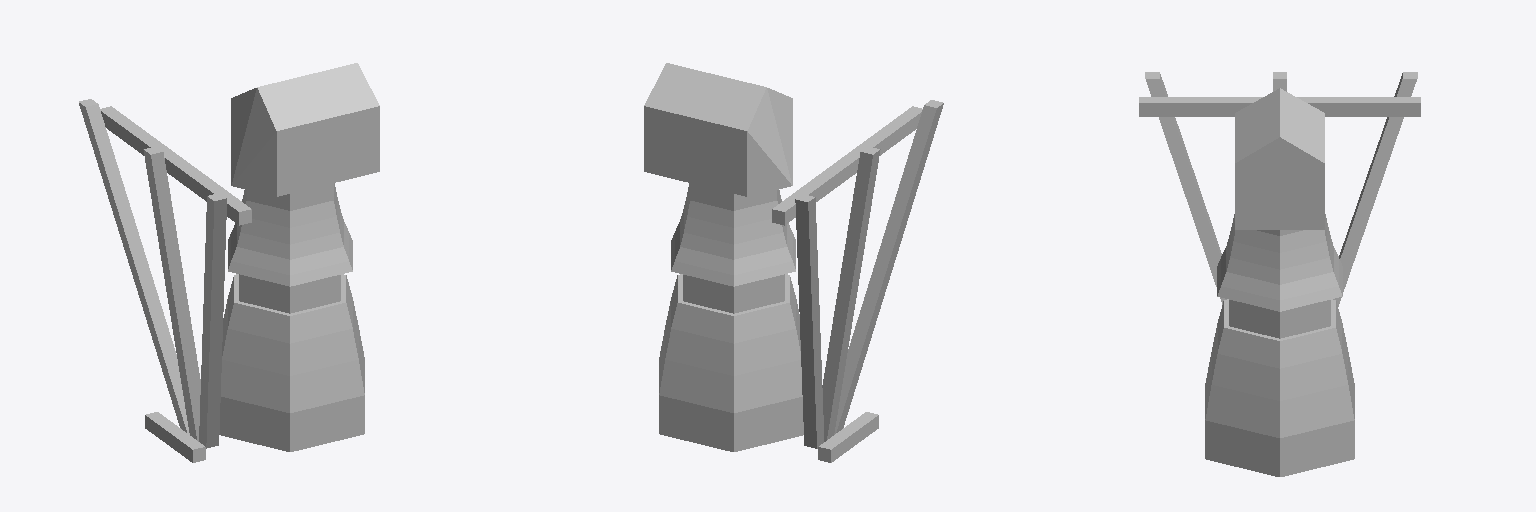
Rendered from windmillbasealt.obj.
3 views of the same model, side by side, from view 1: azimuth 30°, elevation 25°; view 2: azimuth 150°, elevation 25°; view 3: azimuth 270°, elevation 25° (orthographic).
Parts seen in each view (by area): view 1: windmillbasealt; view 2: windmillbasealt; view 3: windmillbasealt.
Part boxes in pixels (bbox=[...]): windmillbasealt: bbox=[79, 63, 379, 462]; windmillbasealt: bbox=[644, 63, 943, 462]; windmillbasealt: bbox=[1139, 72, 1420, 476].
Bounding box in the file's own units: 3.77 × 5.58 × 4.22.